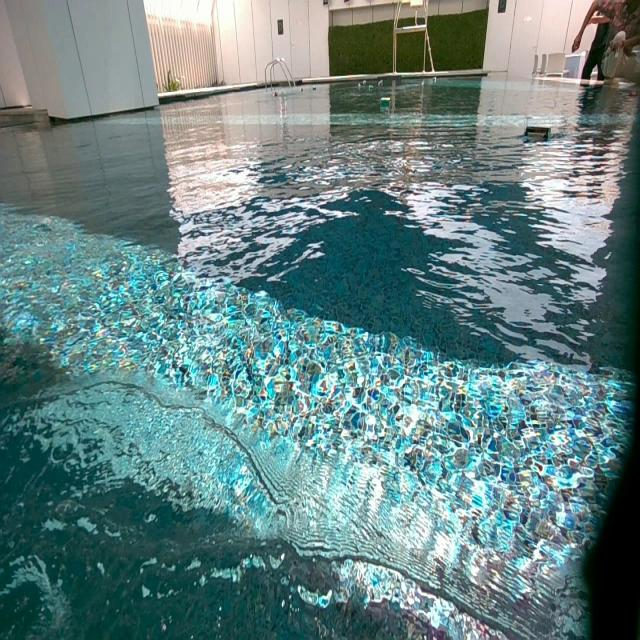Cans: (524, 124, 552, 142), (380, 98, 391, 108), (629, 91, 637, 99), (359, 80, 366, 88), (378, 78, 384, 87), (274, 92, 280, 100), (367, 88, 375, 94), (310, 85, 316, 92), (432, 77, 437, 84), (298, 90, 303, 96)
